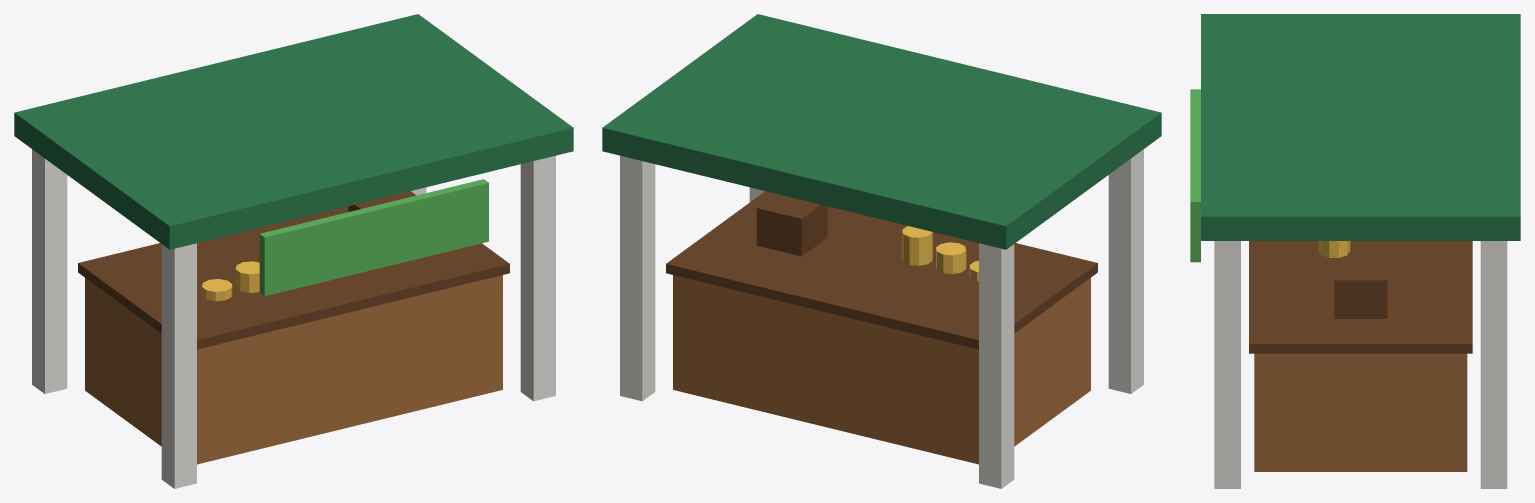
File: mdl_estacion_tienda.fbx
3 renders of one model, left to right at view 1: azimuth 30°, elevation 25°; view 2: azimuth 150°, elevation 25°; view 3: azimuth 270°, elevation 25°, orthographic. The views are drawn at different scales.
Parts seen in each view (by area): view 1: mdl_estacion_tienda; view 2: mdl_estacion_tienda; view 3: mdl_estacion_tienda.
Part boxes in pixels (x1,y1,x2,y2): mdl_estacion_tienda: [14, 14, 573, 488]; mdl_estacion_tienda: [602, 14, 1161, 488]; mdl_estacion_tienda: [1190, 14, 1520, 488].
Size of the model in its own units: 1800 by 1150 by 1240.
